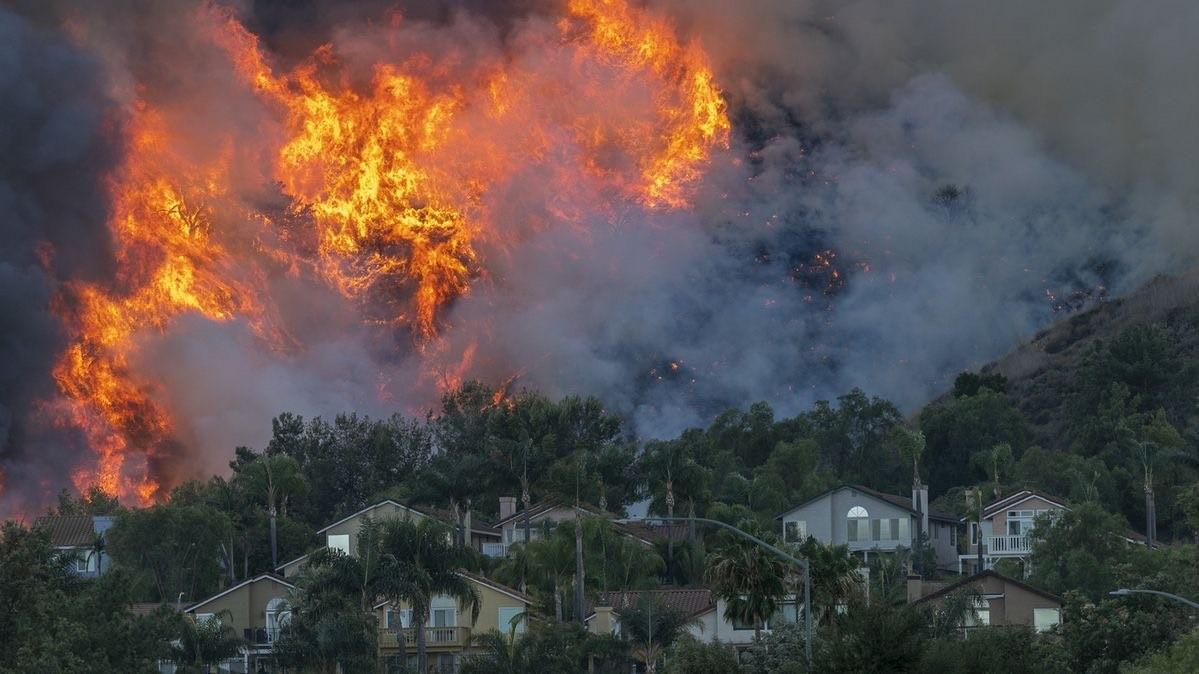fire: (109, 70, 471, 328), (498, 8, 768, 197), (34, 297, 163, 528)
smoke: (815, 69, 1082, 410), (494, 233, 778, 484), (147, 285, 431, 485), (0, 0, 107, 282)
